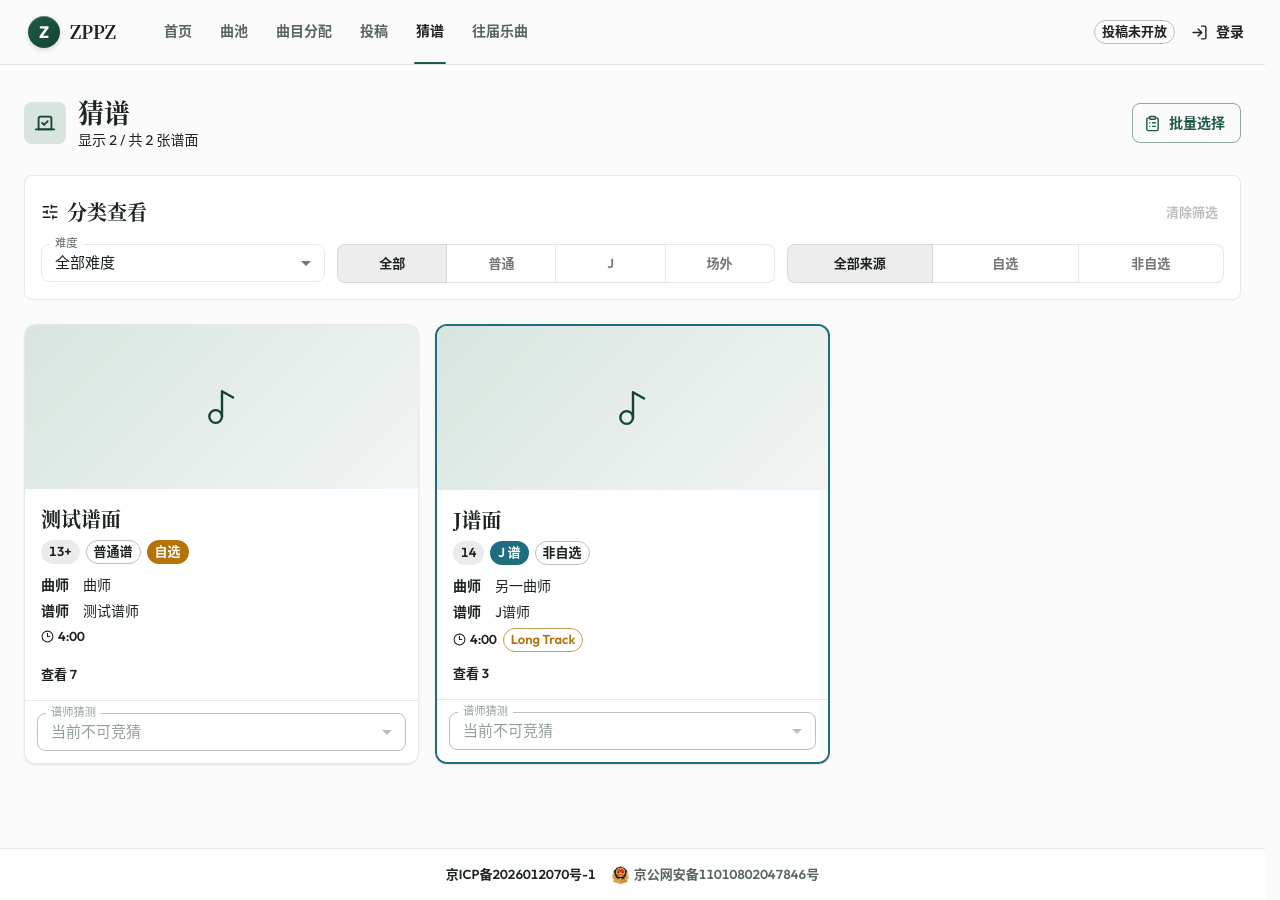
Test case: Material application shell › clears batch selection when filters change
The width and height of the screenshot is (1280, 900).
expect the heading "测试谱面" is shown: met, box [41,504,121,533]
What coordinates should you click on to do the following:
click the button "批量选择"
I would click on:
 (1186, 123)
Its box is [1132,103,1241,143].
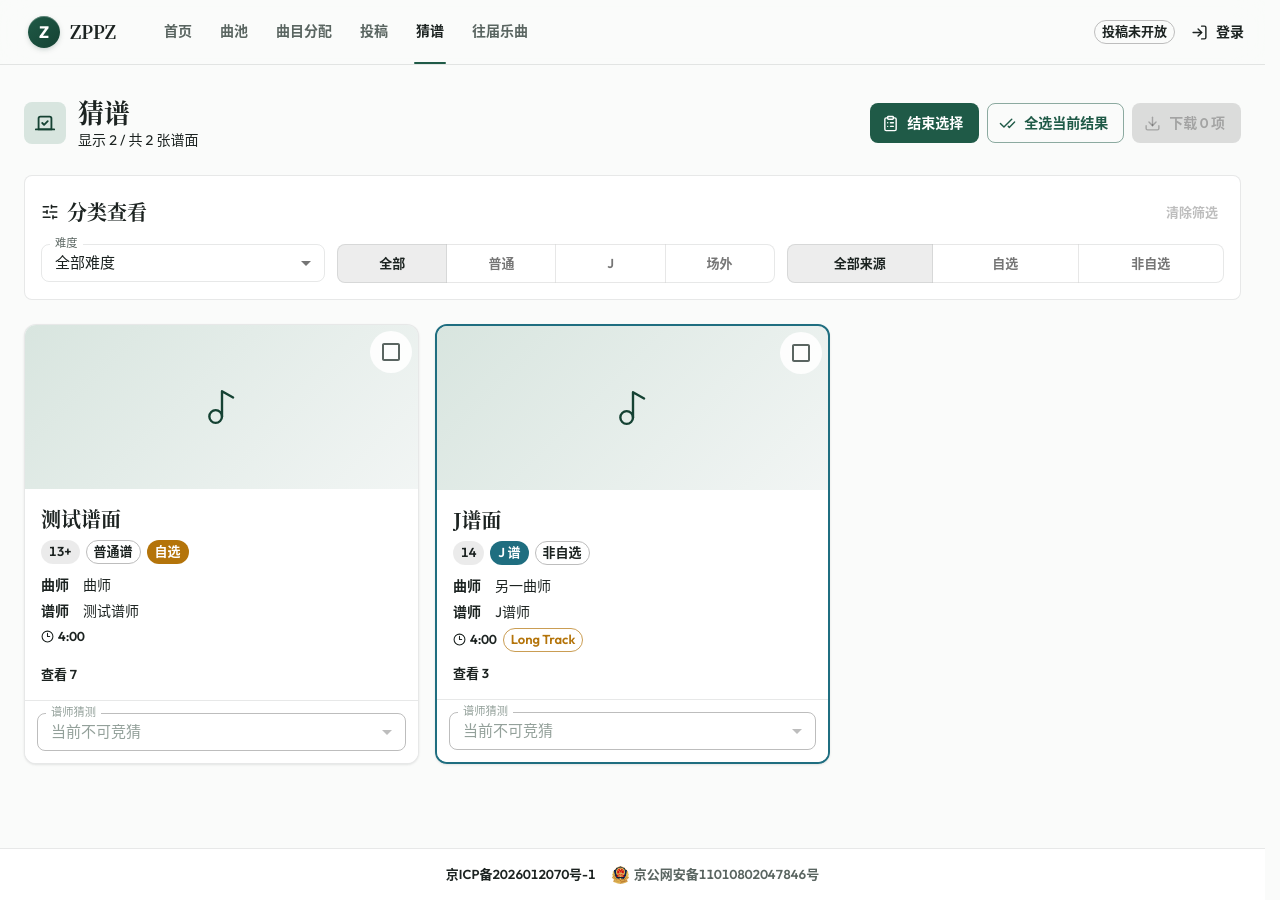
What coordinates should you click on to do the following:
click the checkbox named "选择 测试谱面"
I would click on:
 (391, 352)
Its box is [370,331,412,373].
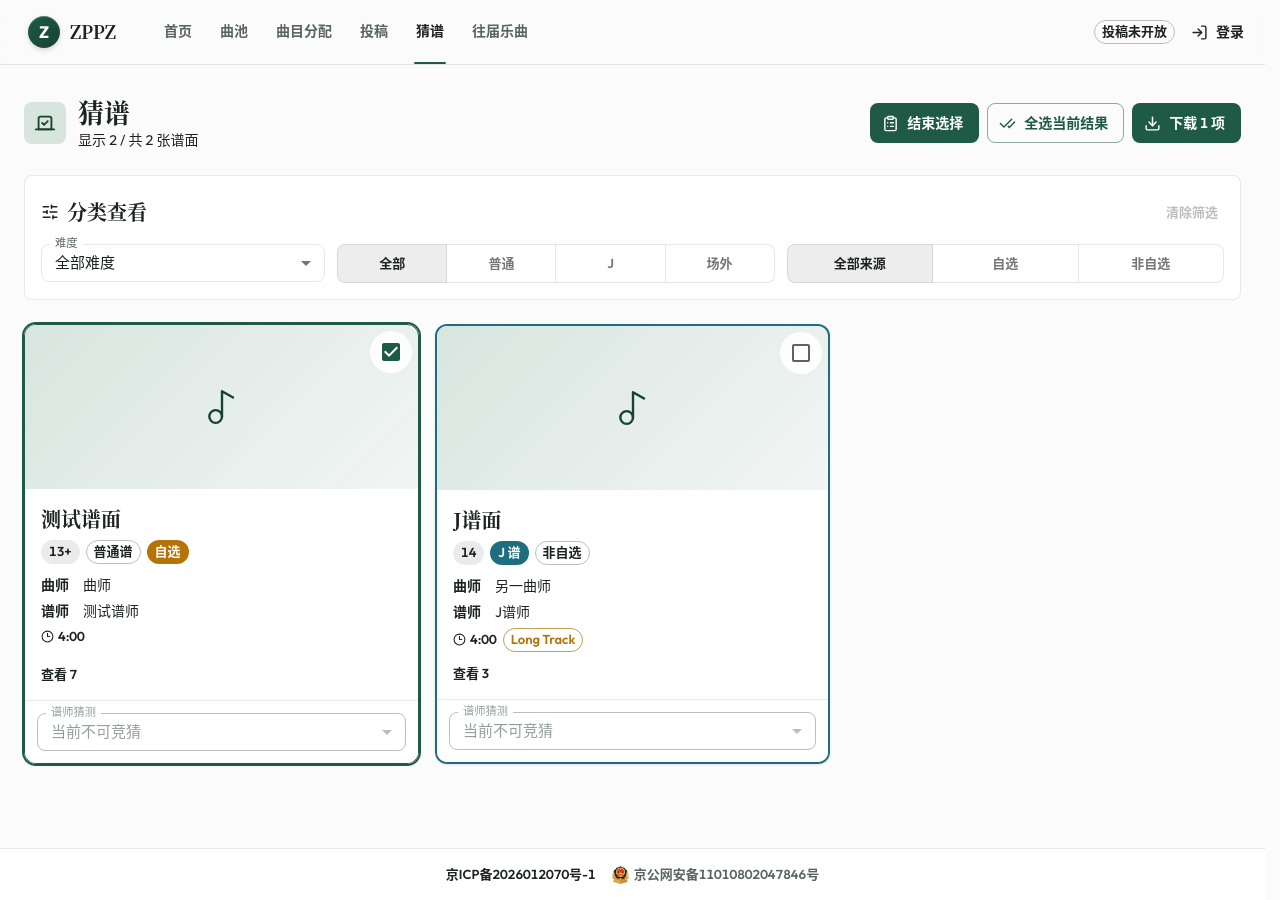
expect the button "下载 1 项" is enabled: met, box [1132,103,1241,143]
What coordinates should you click on to do the following:
click the button "J"
I would click on:
 (611, 263)
Its box is [556,244,666,283].
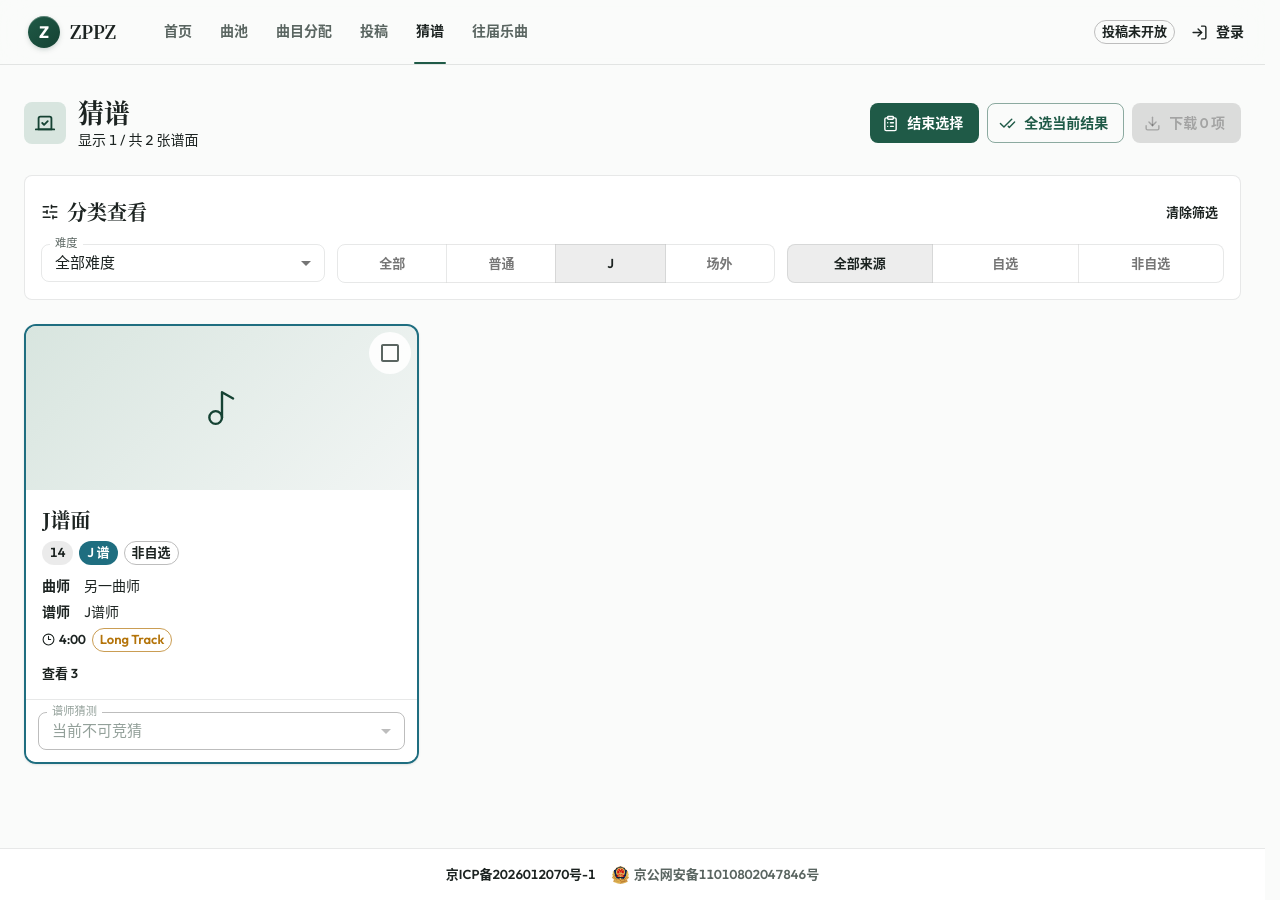
expect the button "下载 0 项" is disabled: met, box [1132,103,1241,143]
